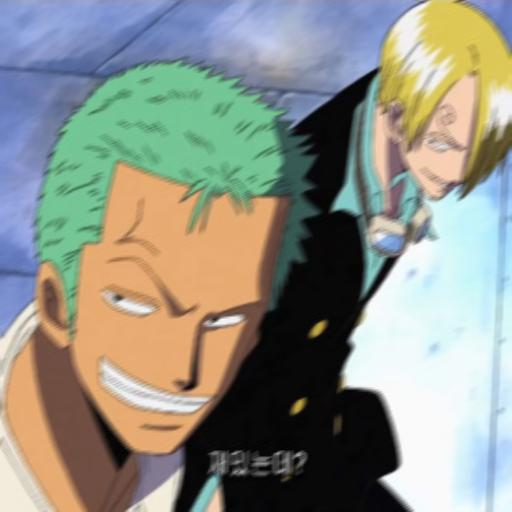Zoro: (16, 59, 318, 462)
sanji: (369, 0, 512, 203)
